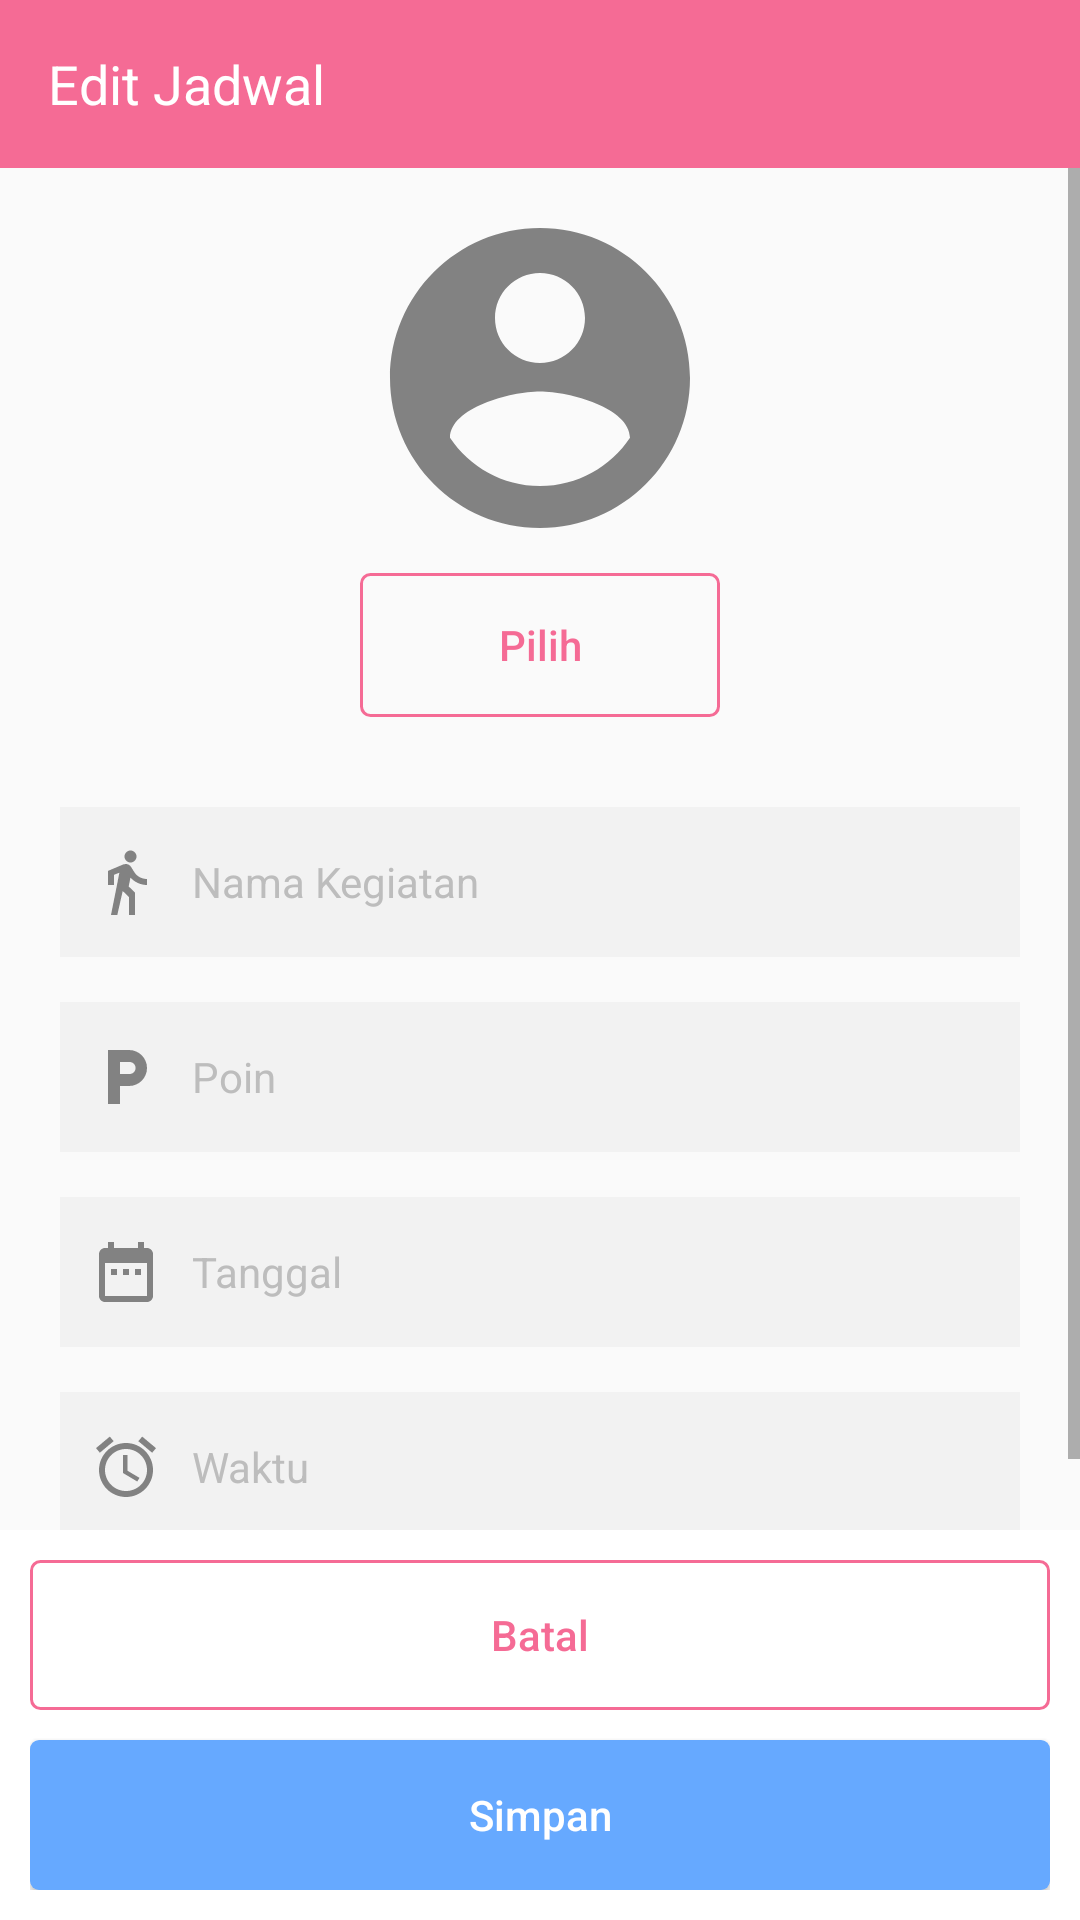

Locate icon controls on the screen. Image size 1080w x 1920h, boxes as (x1, y1, x2, y2).
account circle: (390, 228, 690, 528)
